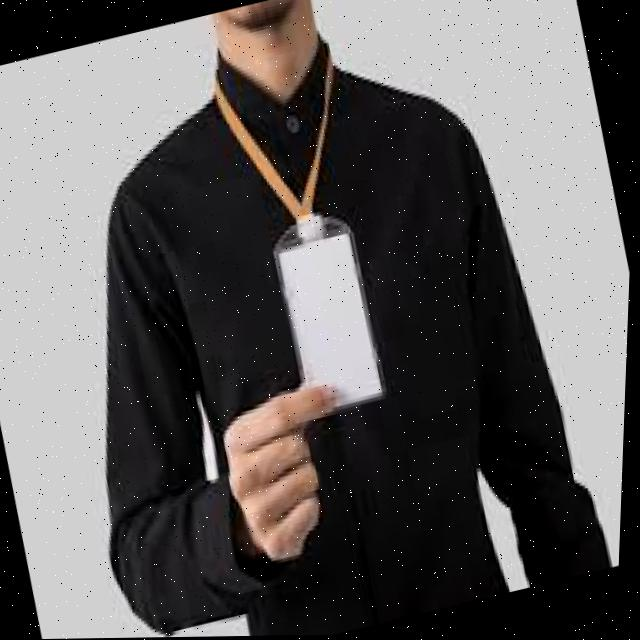id_card: (199, 47, 416, 438)
